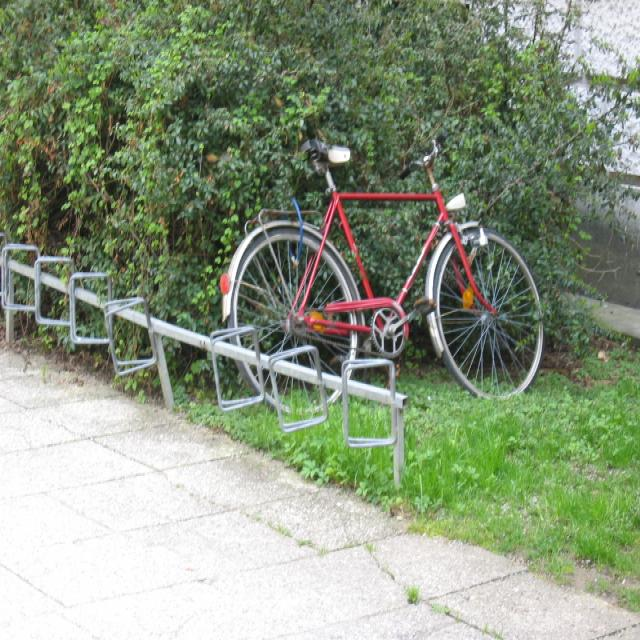bicycle: (216, 130, 544, 406)
